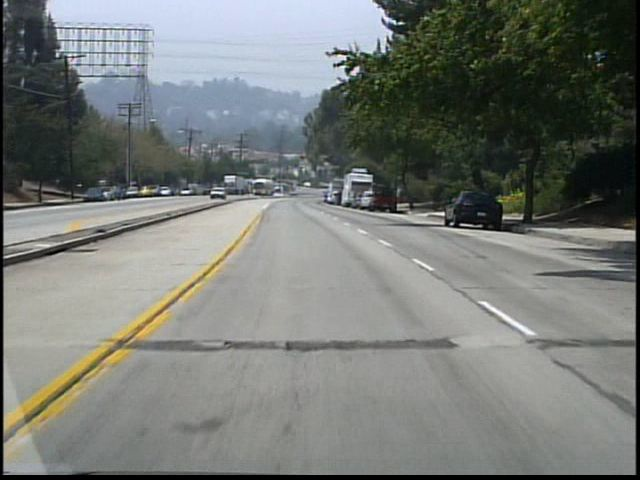person: (391, 183, 403, 209)
